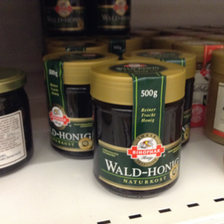honey: (91, 62, 187, 194), (40, 52, 95, 157)
